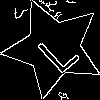L: (28, 23, 81, 76)
